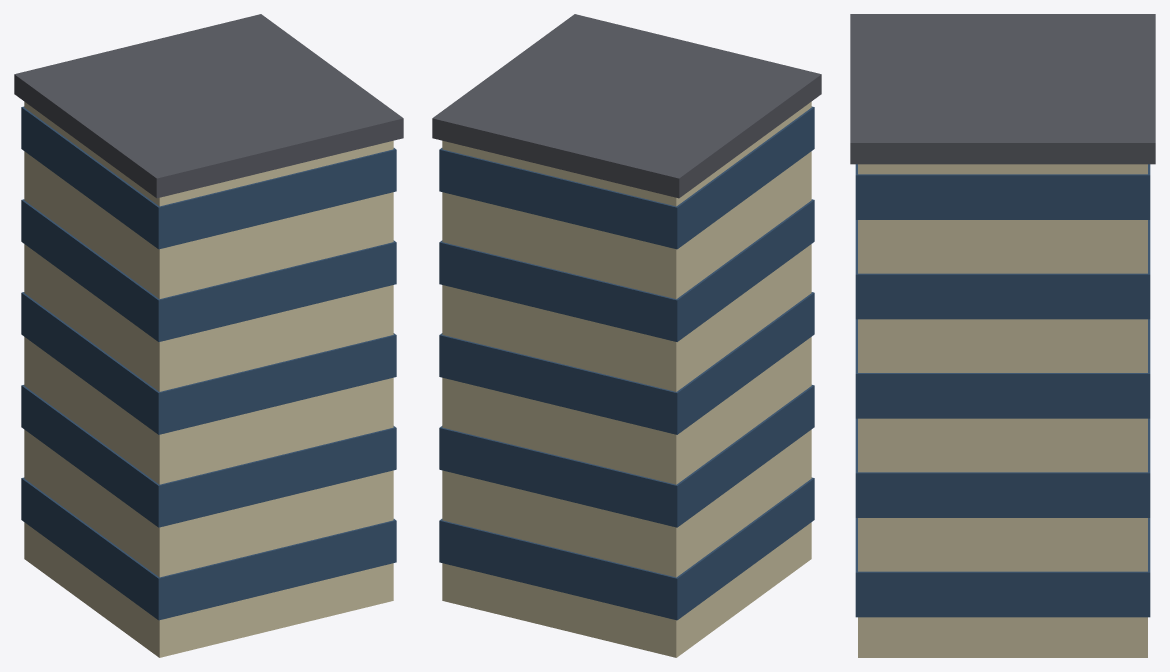
The model's file is block_2000.glb.
The picture shows the model from 3 angles, left to right: view 1: azimuth 30°, elevation 25°; view 2: azimuth 150°, elevation 25°; view 3: azimuth 270°, elevation 25°; orthographic projection. The views are drawn at different scales.
Parts seen in each view (by area): view 1: Body, Roof, Body_win_f3, Body_win_f0, Body_win_f2, Body_win_f4, Body_win_f1; view 2: Body, Roof, Body_win_f3, Body_win_f0, Body_win_f2, Body_win_f4, Body_win_f1; view 3: Body, Roof, Body_win_f0, Body_win_f3, Body_win_f2, Body_win_f1, Body_win_f4.
Boxes of the visible parts, <box> form: Body: <box>24,102,393,657</box>; Roof: <box>14,14,403,198</box>; Body_win_f3: <box>21,199,396,341</box>; Body_win_f0: <box>21,477,396,620</box>; Body_win_f2: <box>21,292,396,434</box>; Body_win_f4: <box>21,106,396,249</box>; Body_win_f1: <box>21,385,396,527</box>; Body: <box>442,102,811,657</box>; Roof: <box>432,14,821,198</box>; Body_win_f3: <box>439,199,814,341</box>; Body_win_f0: <box>439,477,814,620</box>; Body_win_f2: <box>439,292,814,434</box>; Body_win_f4: <box>439,106,814,249</box>; Body_win_f1: <box>439,385,814,527</box>; Body: <box>858,164,1147,657</box>; Roof: <box>850,14,1155,164</box>; Body_win_f0: <box>855,518,1150,617</box>; Body_win_f3: <box>855,220,1150,319</box>; Body_win_f2: <box>855,319,1150,418</box>; Body_win_f1: <box>855,418,1150,517</box>; Body_win_f4: <box>855,164,1150,219</box>.
Size of the model in its own units: 0.78 by 1.46 by 0.78.
